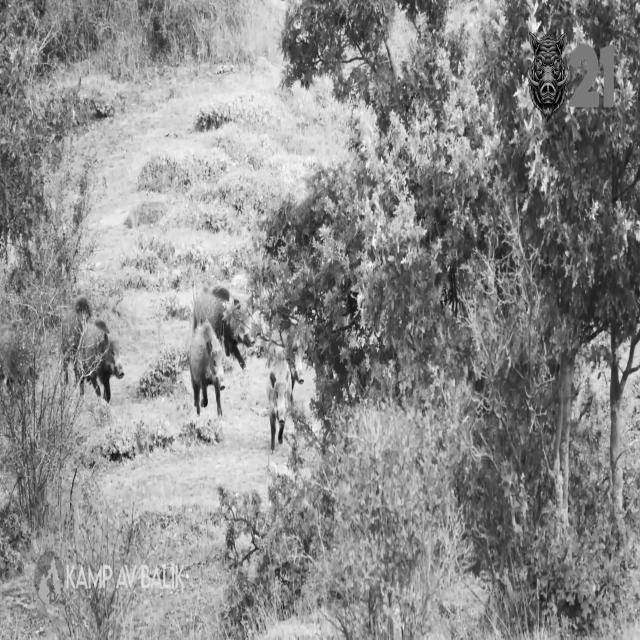boar: (0, 295, 79, 527), (193, 285, 253, 368), (73, 319, 123, 402), (189, 321, 224, 415), (60, 295, 91, 383), (268, 348, 292, 451)
